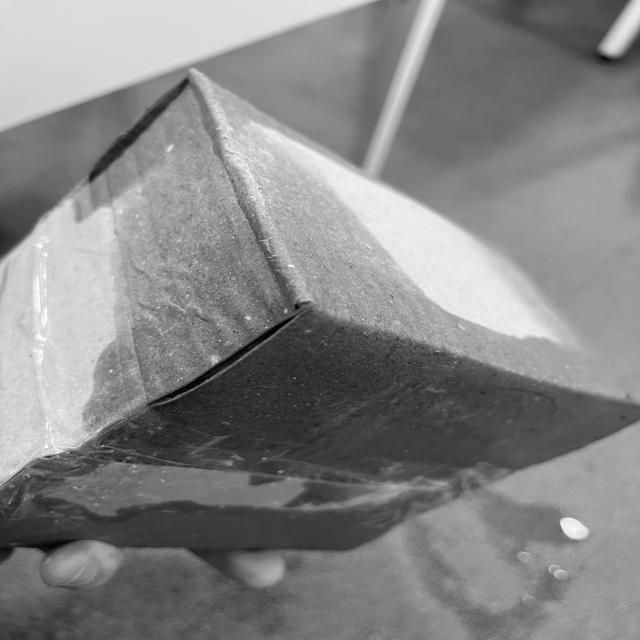wet: (102, 67, 386, 464)
